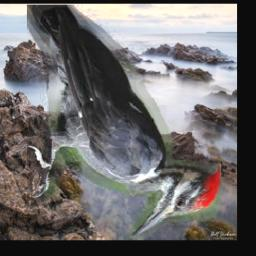Woodpecker: (28, 6, 222, 239)
